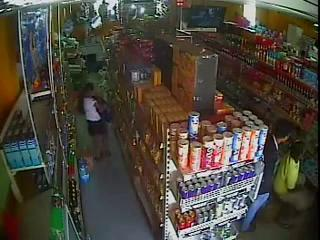shoplifting: (81, 82, 112, 162)
